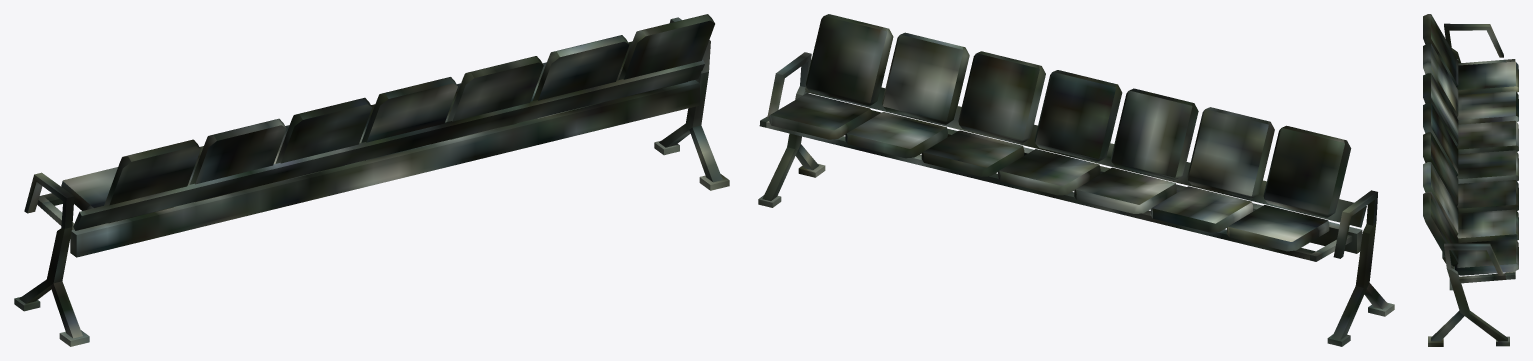
File: seats.fbx
The picture shows the model from 3 angles, left to right: view 1: azimuth 30°, elevation 25°; view 2: azimuth 150°, elevation 25°; view 3: azimuth 270°, elevation 25°; orthographic projection. The views are drawn at different scales.
Visible parts, largest first — view 1: seats; view 2: seats; view 3: seats.
Part boxes in pixels (x1=…): seats: x1=14, y1=14, x2=729, y2=346; seats: x1=758, y1=14, x2=1394, y2=346; seats: x1=1423, y1=14, x2=1518, y2=346.
Size of the model in its own units: 2.69 by 0.6904 by 0.4786.
1 material, 1 textured.
